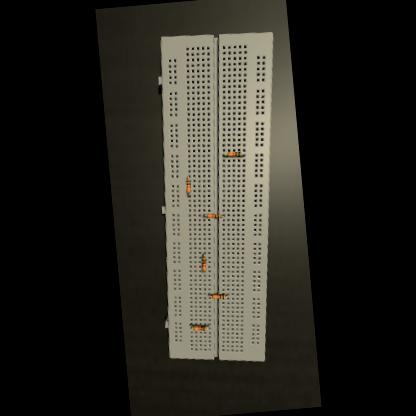breadboard: (140, 28, 301, 370)
resistor: (193, 324, 206, 332), (211, 293, 224, 300), (226, 152, 240, 158), (185, 180, 191, 194), (201, 258, 207, 271), (207, 214, 221, 219)
wire: (206, 324, 209, 329), (225, 294, 228, 297), (190, 324, 192, 328), (223, 154, 226, 156), (220, 215, 223, 217), (242, 155, 244, 157), (204, 214, 206, 216), (188, 176, 190, 178), (188, 194, 190, 196), (209, 294, 210, 297), (204, 253, 204, 258)
